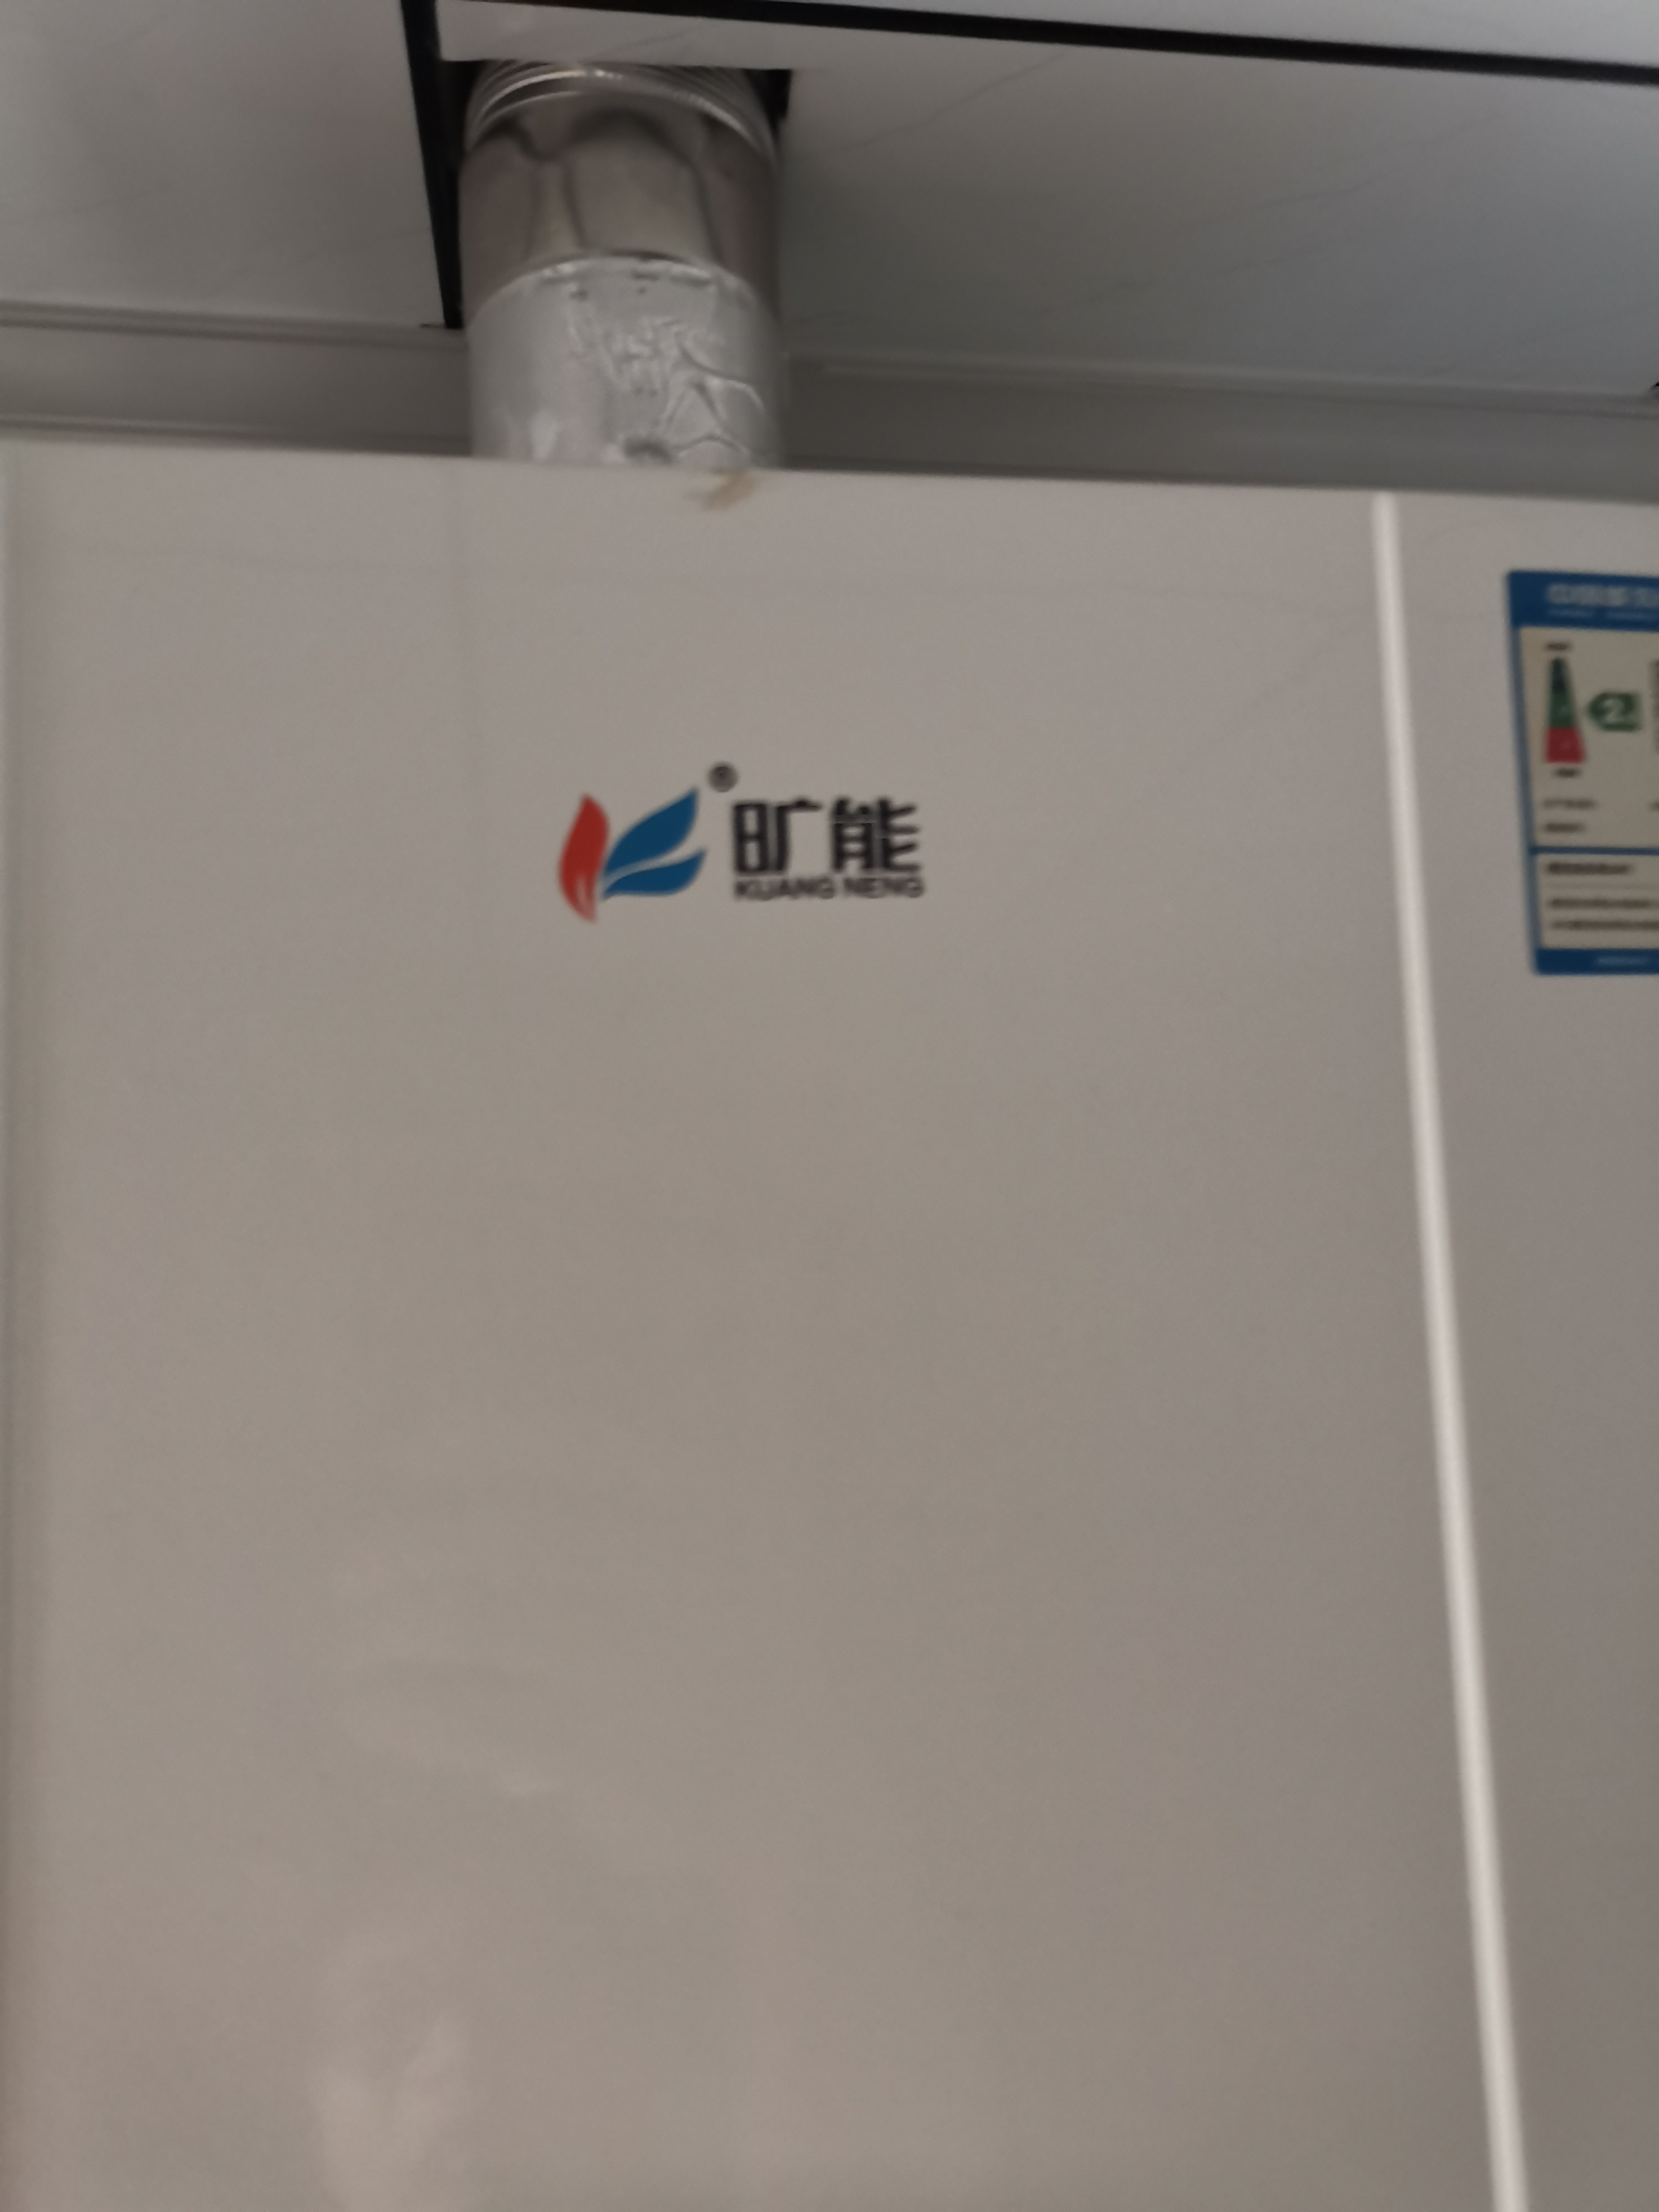loudou: (518, 730, 953, 946)
